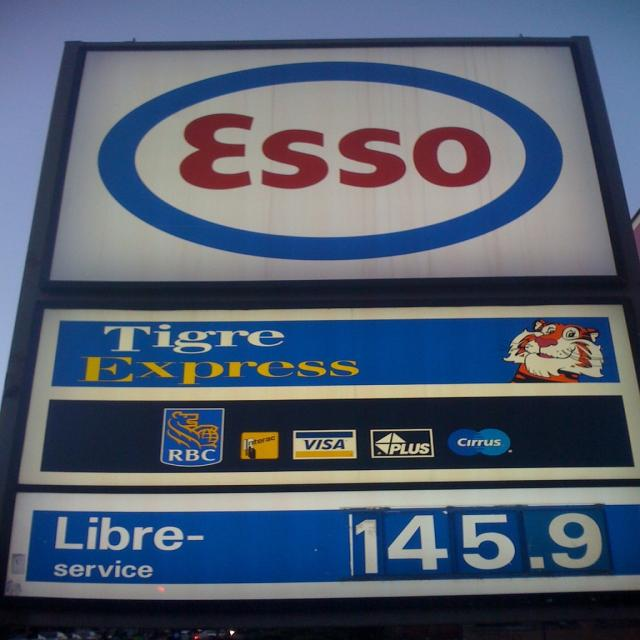esso: (87, 52, 574, 268)
